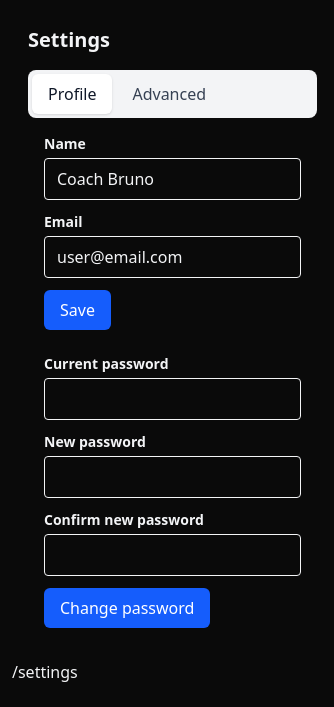
Scenario: profile name/email form › an invalid email is rejected with a message and saves nothing
Expected: the heading "Settings" is shown, x1=28 y1=26 x2=110 y2=53
Replace the text in the field labelled "Email" with "not-an-email" at {"x": 172, "y": 257}, box x1=44 y1=236 x2=301 y2=278
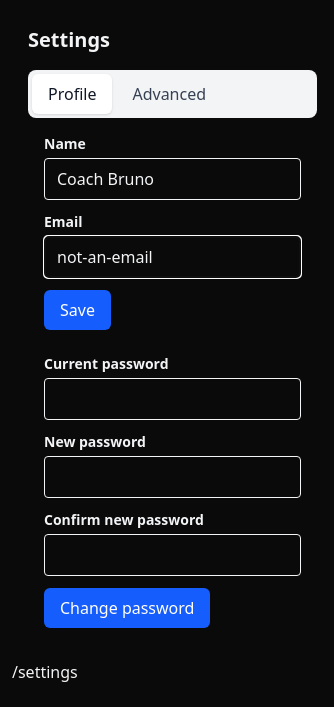
Click the button "Save" at {"x": 77, "y": 310}, box x1=44 y1=290 x2=111 y2=330
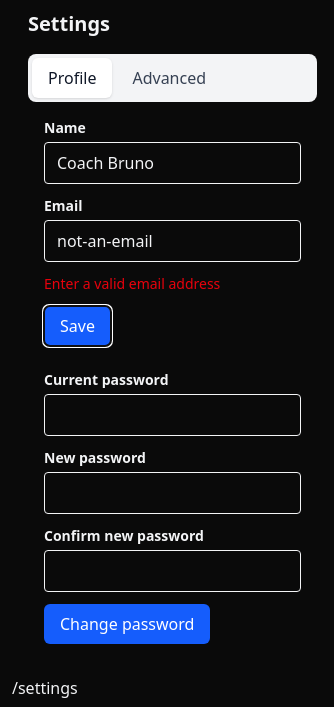
Now the message reads "Enter a valid email address", box x1=44 y1=274 x2=220 y2=293
